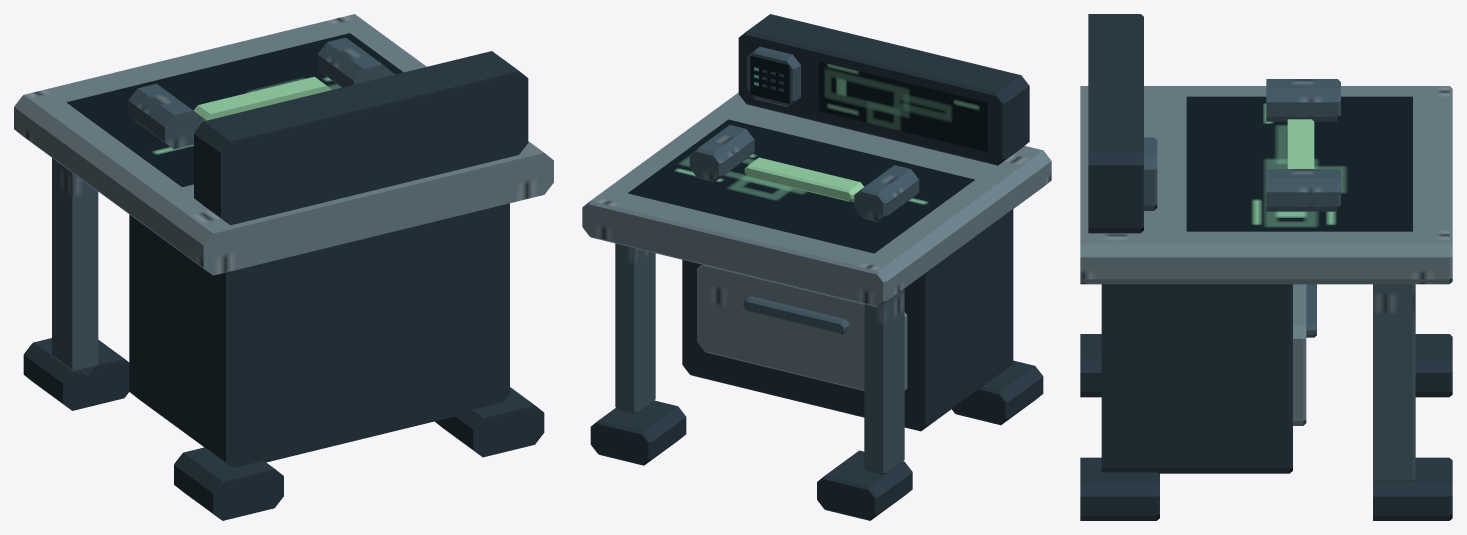
Rendered from matter_manipulator_workbench.obj.
3 views of the same model, side by side, from view 1: azimuth 30°, elevation 25°; view 2: azimuth 150°, elevation 25°; view 3: azimuth 270°, elevation 25° (orthographic). The views are drawn at different scales.
Visible parts, largest first — view 1: tool_cabinet, rear_equipment_rail, worktop, inset_engineering_mat, front_leg_1_4, foot_1_12, foot_1_1, foot_12_12, tool_clamp_3, tool_clamp_11, manipulator_mount; view 2: worktop, tool_cabinet, inset_engineering_mat, rear_equipment_rail, front_drawer, engineering_screen, front_leg_1_4, front_leg_13_5, foot_12_1, foot_1_1, foot_1_12, manipulator_mount (+5 smaller); view 3: tool_cabinet, worktop, inset_engineering_mat, rear_equipment_rail, front_leg_13_5, foot_12_12, foot_12_1, tool_clamp_11, tool_clamp_3, foot_1_1, front_drawer, foot_1_12 (+3 smaller).
Boxes of the visible parts, x1=… form: tool_cabinet: x1=129, y1=203, x2=509, y2=467; rear_equipment_rail: x1=194, y1=51, x2=528, y2=225; worktop: x1=14, y1=14, x2=553, y2=275; inset_engineering_mat: x1=66, y1=33, x2=403, y2=187; front_leg_1_4: x1=52, y1=158, x2=98, y2=375; foot_1_12: x1=174, y1=447, x2=283, y2=520; foot_1_1: x1=23, y1=338, x2=129, y2=410; foot_12_12: x1=435, y1=387, x2=544, y2=457; tool_clamp_3: x1=128, y1=83, x2=202, y2=149; tool_clamp_11: x1=317, y1=37, x2=391, y2=87; manipulator_mount: x1=193, y1=76, x2=331, y2=121; worktop: x1=582, y1=92, x2=1051, y2=307; tool_cabinet: x1=682, y1=209, x2=1013, y2=431; inset_engineering_mat: x1=628, y1=119, x2=974, y2=253; rear_equipment_rail: x1=738, y1=14, x2=1029, y2=165; front_drawer: x1=697, y1=264, x2=907, y2=390; engineering_screen: x1=819, y1=61, x2=987, y2=151; front_leg_1_4: x1=864, y1=289, x2=904, y2=474; front_leg_13_5: x1=615, y1=243, x2=655, y2=413; foot_12_1: x1=590, y1=400, x2=686, y2=465; foot_1_1: x1=817, y1=450, x2=912, y2=520; foot_1_12: x1=951, y1=360, x2=1043, y2=425; manipulator_mount: x1=744, y1=157, x2=863, y2=201; tool_cabinet: x1=1101, y1=284, x2=1292, y2=473; worktop: x1=1080, y1=86, x2=1452, y2=284; inset_engineering_mat: x1=1186, y1=96, x2=1412, y2=231; rear_equipment_rail: x1=1088, y1=14, x2=1143, y2=233; front_leg_13_5: x1=1373, y1=284, x2=1415, y2=481; foot_12_12: x1=1080, y1=457, x2=1159, y2=520; foot_12_1: x1=1373, y1=457, x2=1452, y2=520; tool_clamp_11: x1=1266, y1=169, x2=1340, y2=211; tool_clamp_3: x1=1266, y1=79, x2=1340, y2=121; foot_1_1: x1=1415, y1=334, x2=1452, y2=397; front_drawer: x1=1293, y1=284, x2=1306, y2=425; foot_1_12: x1=1080, y1=334, x2=1101, y2=397.
Size of the model in its own units: 0.925 by 0.9438 by 0.875.
